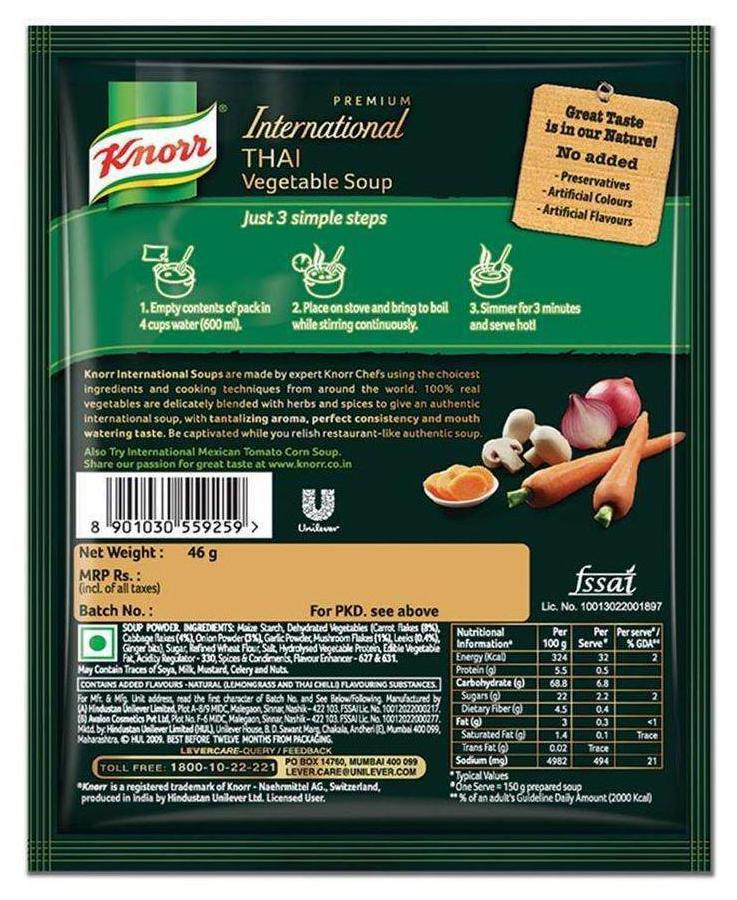fssai: (566, 564, 635, 596)
